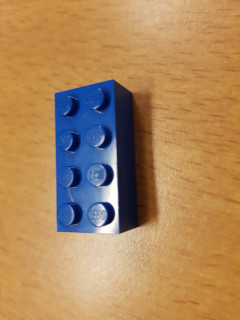2x4 blue: (52, 76, 141, 233)
